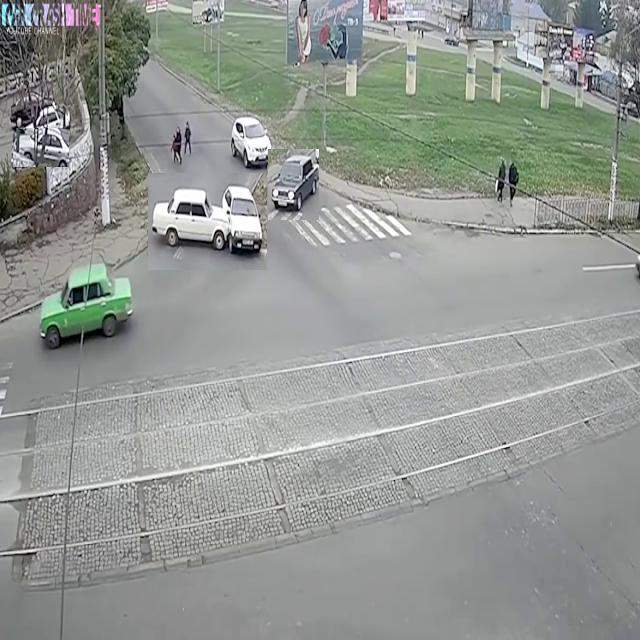car Accident: (132, 166, 269, 269)
